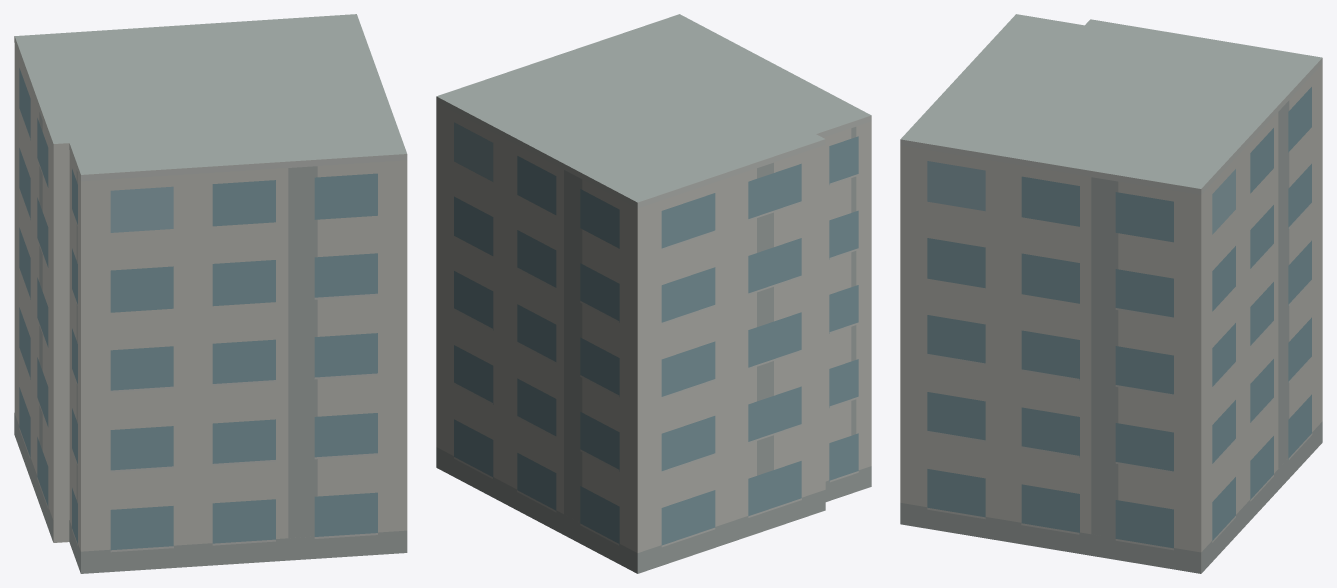
Rendered from survey-upis-32887626.glb.
3 views of the same model, side by side, from view 1: azimuth 30°, elevation 25°; view 2: azimuth 150°, elevation 25°; view 3: azimuth 270°, elevation 25° (orthographic). The views are drawn at different scales.
Parts seen in each view (by area): view 1: survey-upis-32887626.tmp; view 2: survey-upis-32887626.tmp; view 3: survey-upis-32887626.tmp.
Boxes of the visible parts, x1=… form: survey-upis-32887626.tmp: x1=14, y1=14, x2=407, y2=573; survey-upis-32887626.tmp: x1=436, y1=14, x2=871, y2=573; survey-upis-32887626.tmp: x1=900, y1=14, x2=1322, y2=573.
Bounding box in the file's own units: 14.69 × 15.05 × 14.98.
